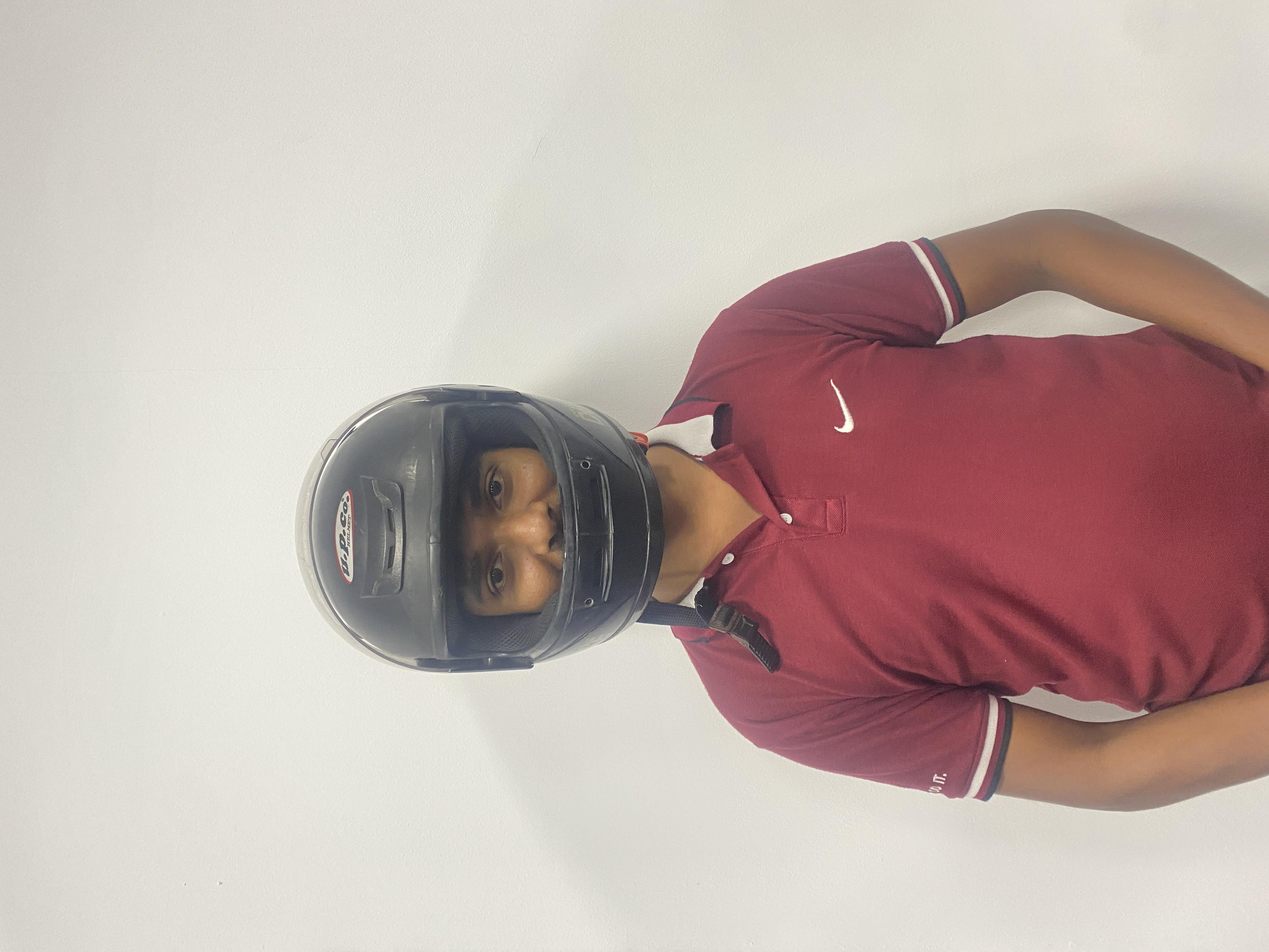helmet: (370, 220, 768, 496)
